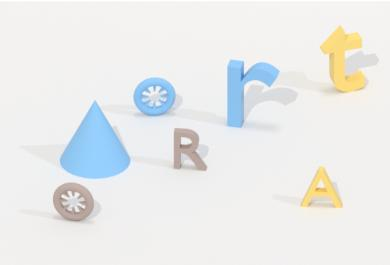0-TamGiac: (54, 98, 132, 182)
0-TronLo: (50, 179, 97, 226), (131, 73, 177, 119)
A: (297, 162, 346, 216)
R: (168, 123, 211, 175)
r: (223, 55, 282, 133)
t: (317, 21, 371, 97)
